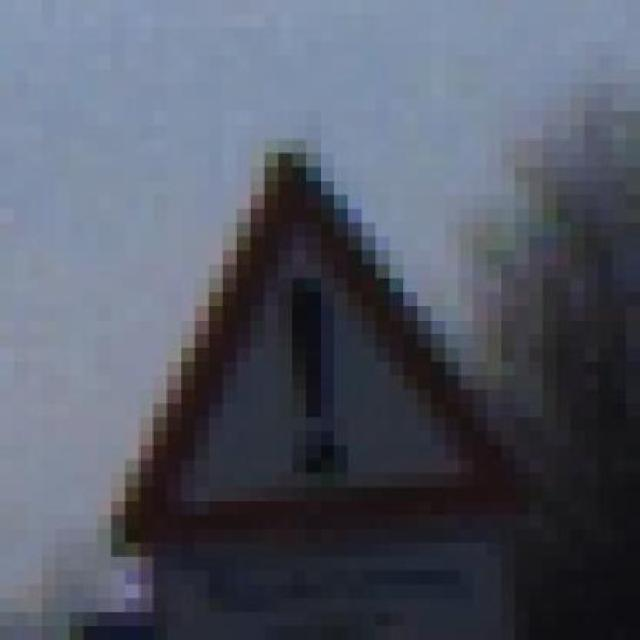Attention Please-: (69, 139, 543, 556)
